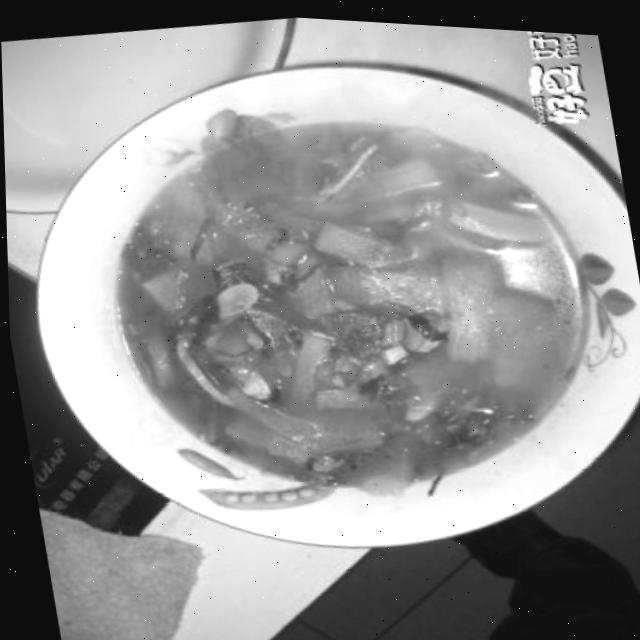汤锅炖物: (5, 9, 640, 608)
